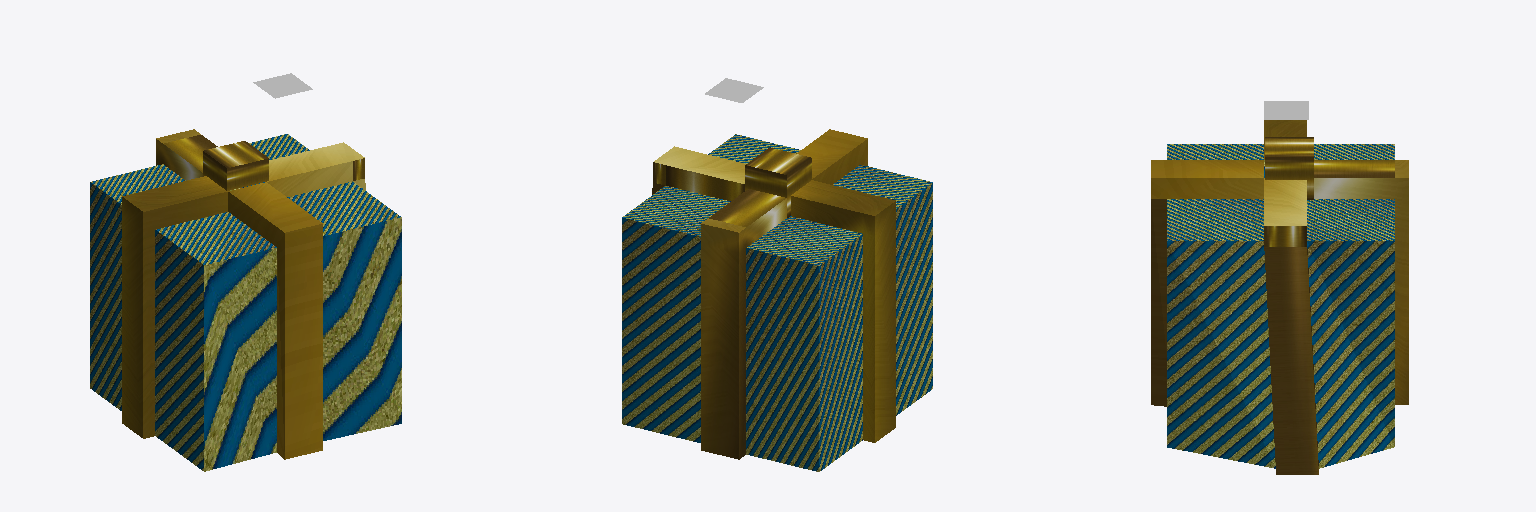
The picture shows the model from 3 angles: view 1: azimuth 30°, elevation 25°; view 2: azimuth 150°, elevation 25°; view 3: azimuth 270°, elevation 25°; orthographic projection.
Parts seen in each view (by area): view 1: Cube_REGALO, Cube.001_Cube, Plane.001; view 2: Cube_REGALO, Cube.001_Cube, Plane.001; view 3: Cube_REGALO, Cube.001_Cube, Plane.001.
Boxes of the visible parts, x1,y1,x2,y2 form: Cube_REGALO: [90, 129, 401, 471]; Cube.001_Cube: [203, 141, 268, 190]; Plane.001: [253, 73, 312, 98]; Cube_REGALO: [622, 129, 932, 471]; Cube.001_Cube: [745, 147, 811, 217]; Plane.001: [705, 78, 763, 102]; Cube_REGALO: [1151, 120, 1408, 474]; Cube.001_Cube: [1265, 137, 1313, 199]; Plane.001: [1264, 101, 1308, 119].
Bounding box in the file's own units: 2.44 × 3.1 × 2.26.
6 materials, 2 textured.